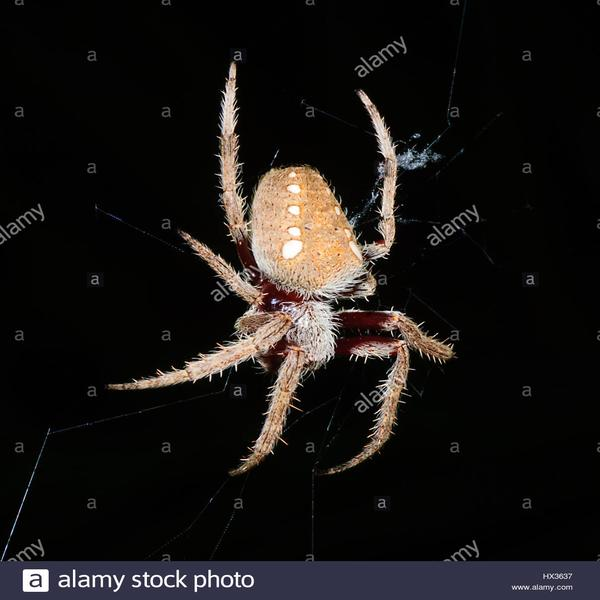Garden Orb Weaver Spider: (134, 64, 449, 472)
